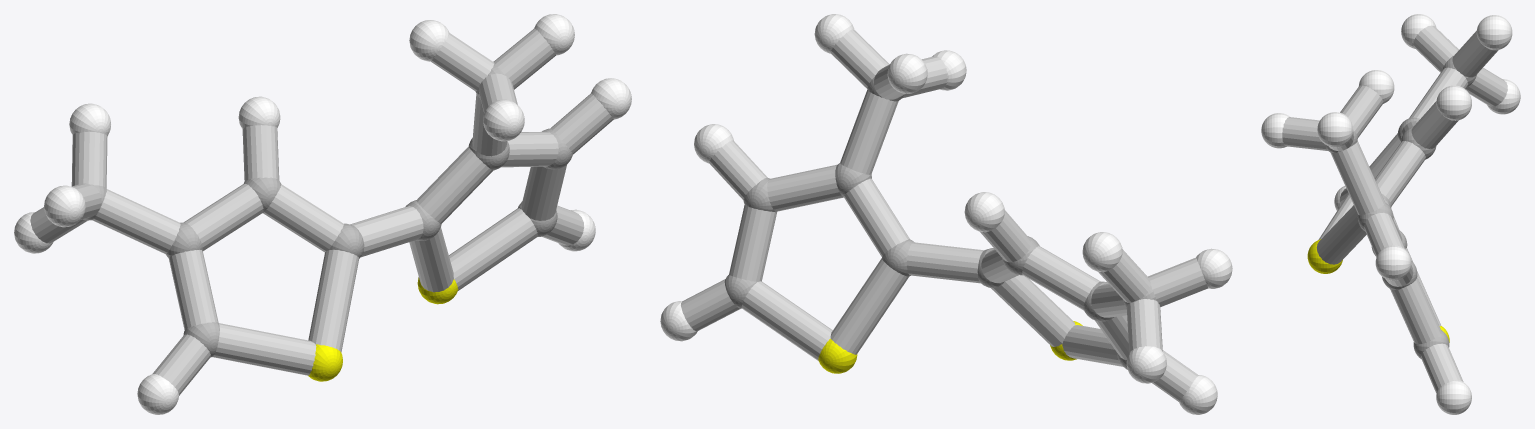
The model's file is Methylthiophene_Phi_20_Theta_240_Methylthiophene.glb.
3 renders of one model, left to right at view 1: azimuth 30°, elevation 25°; view 2: azimuth 150°, elevation 25°; view 3: azimuth 270°, elevation 25°, orthographic. The views are drawn at different scales.
Visible parts, largest first — view 1: grp7965, grp3621, grp1, grp7241; view 2: grp7965, grp3621, grp1, grp7241; view 3: grp7965, grp3621, grp1, grp7241.
Part boxes in pixels (bbox=[...]): grp7965: bbox=[30, 28, 613, 395]; grp3621: bbox=[14, 14, 631, 414]; grp1: bbox=[83, 64, 572, 357]; grp7241: bbox=[308, 277, 458, 381]; grp7965: bbox=[681, 29, 1207, 401]; grp3621: bbox=[660, 14, 1232, 414]; grp1: bbox=[724, 77, 1156, 369]; grp7241: bbox=[818, 321, 1082, 373]; grp7965: bbox=[1282, 25, 1507, 393]; grp3621: bbox=[1261, 14, 1520, 414]; grp1: bbox=[1325, 56, 1477, 358]; grp7241: bbox=[1307, 239, 1449, 342].
Bounding box in the file's own units: 9.39 × 4.97 × 4.35.
